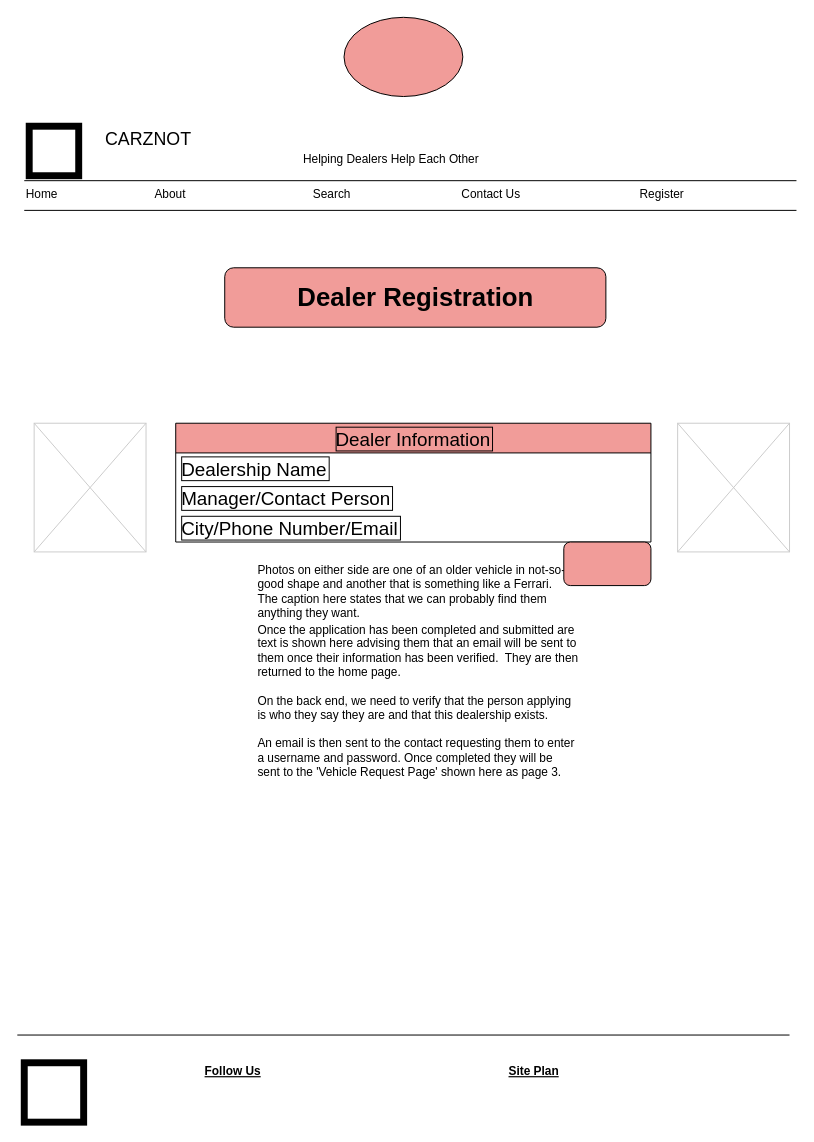
Image size: 814x1142. Some labels were removed from this diagram. The centre of each missing label's shape, as x and y in pixels:
Registration: [403,56]
Submit: [607,563]
